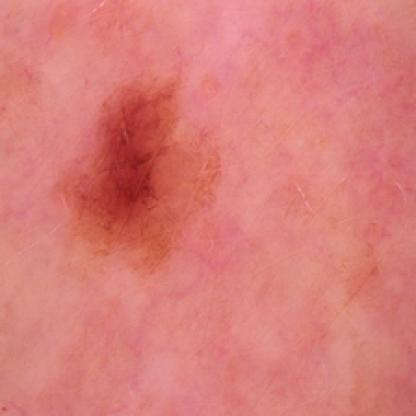benign: (72, 82, 230, 256)
